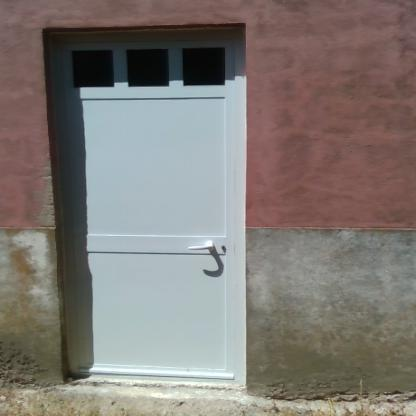door: (56, 40, 234, 378)
lever: (188, 243, 214, 252)
